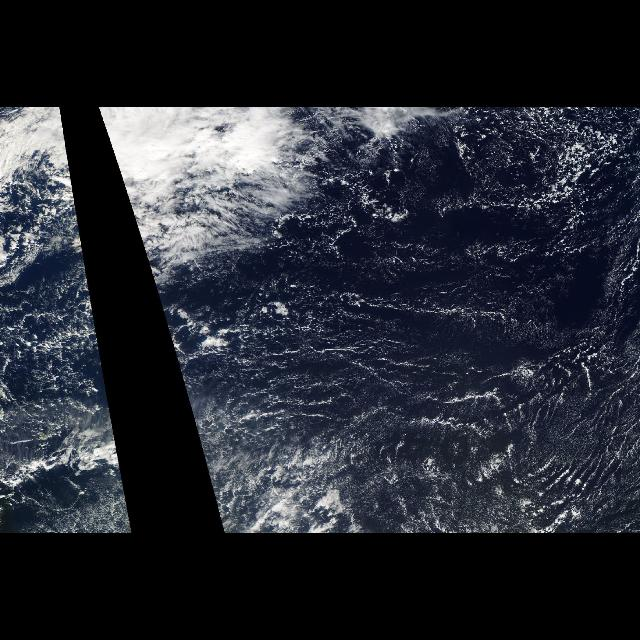Gravel: (152, 247, 640, 533), (0, 286, 114, 422)
Sugar: (258, 221, 640, 533), (458, 108, 620, 215)
